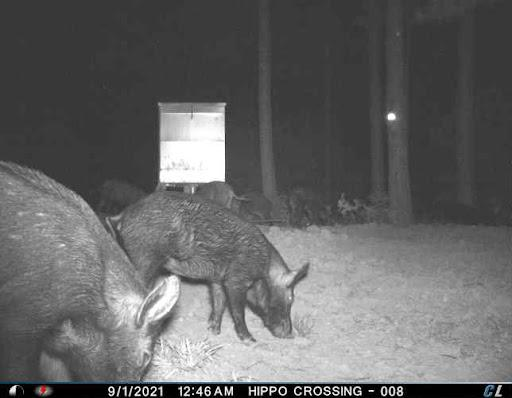Hog: (0, 152, 185, 385), (102, 195, 316, 362), (87, 173, 150, 216), (196, 179, 247, 219), (278, 181, 317, 229)
